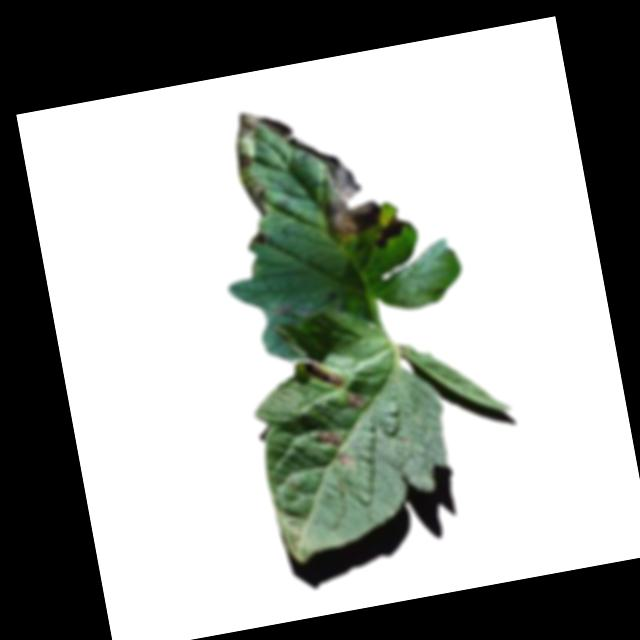Early_blight: (288, 124, 384, 245), (226, 101, 305, 218), (369, 211, 414, 252), (302, 354, 345, 392), (269, 296, 314, 325), (316, 427, 343, 449), (345, 389, 368, 412), (337, 451, 356, 468)
